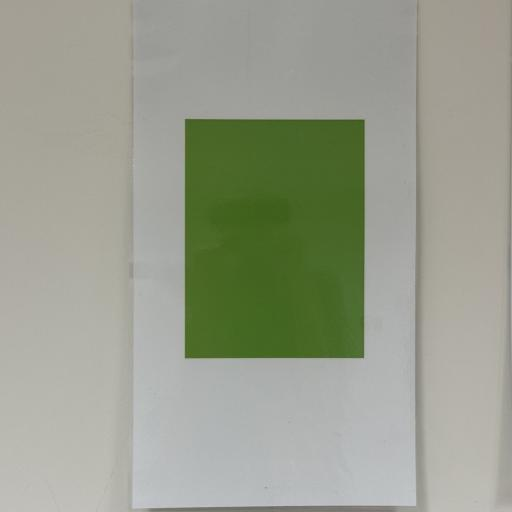green_rectangle: (185, 120, 364, 357)
